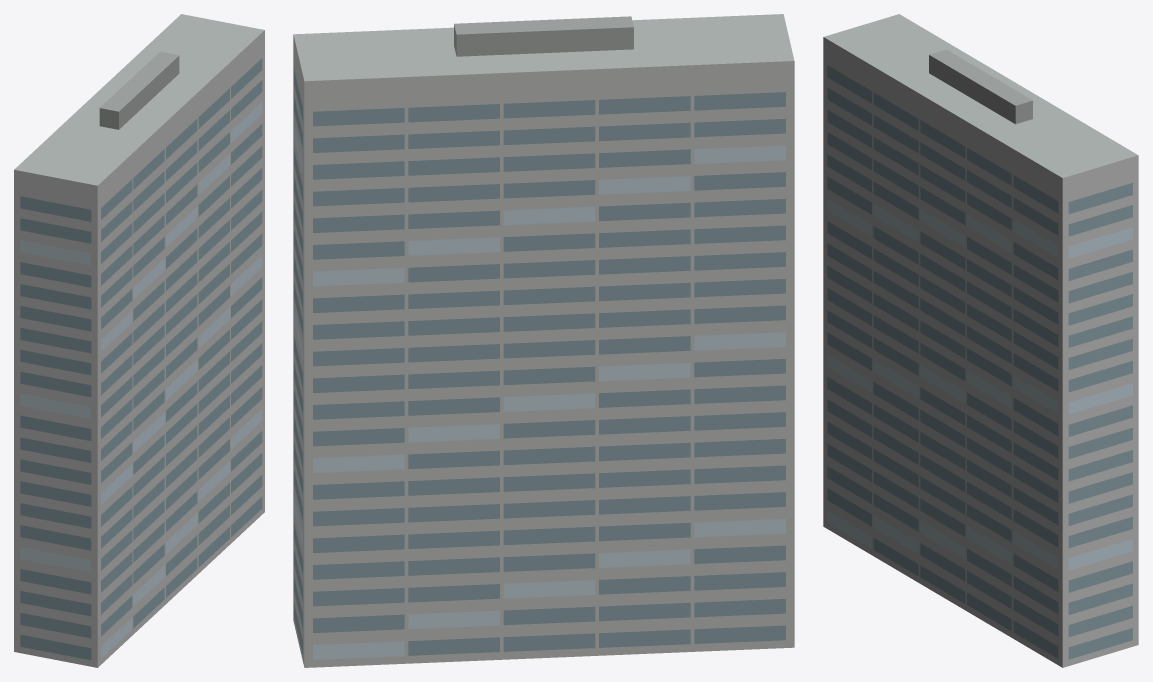
File: fallback-dmc-raemian-e-pyeonhansesang-108.glb
The picture shows the model from 3 angles, left to right: view 1: azimuth 30°, elevation 25°; view 2: azimuth 150°, elevation 25°; view 3: azimuth 270°, elevation 25°; orthographic projection. The views are drawn at different scales.
Parts seen in each view (by area): view 1: fallback-dmc-raemian-e-pyeonhansesang-108; view 2: fallback-dmc-raemian-e-pyeonhansesang-108; view 3: fallback-dmc-raemian-e-pyeonhansesang-108.
Part boxes in pixels (x1,y1,x2,y2): fallback-dmc-raemian-e-pyeonhansesang-108: [14, 14, 264, 667]; fallback-dmc-raemian-e-pyeonhansesang-108: [293, 14, 794, 667]; fallback-dmc-raemian-e-pyeonhansesang-108: [823, 14, 1138, 667].
Size of the model in its own units: 45.73 by 66 by 37.08.
